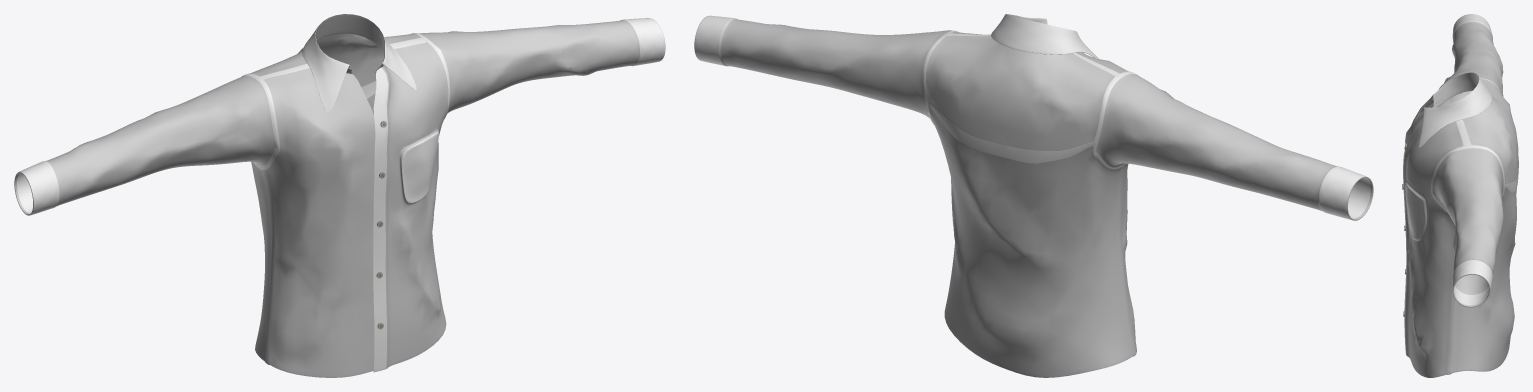
File: shirt_2.glb
3 renders of one model, left to right at view 1: azimuth 30°, elevation 25°; view 2: azimuth 150°, elevation 25°; view 3: azimuth 270°, elevation 25°, orthographic. The views are drawn at different scales.
Bounding box in the file's own units: 1.33 × 0.6549 × 0.2521.
Materials: 1 (1 with a texture image).
